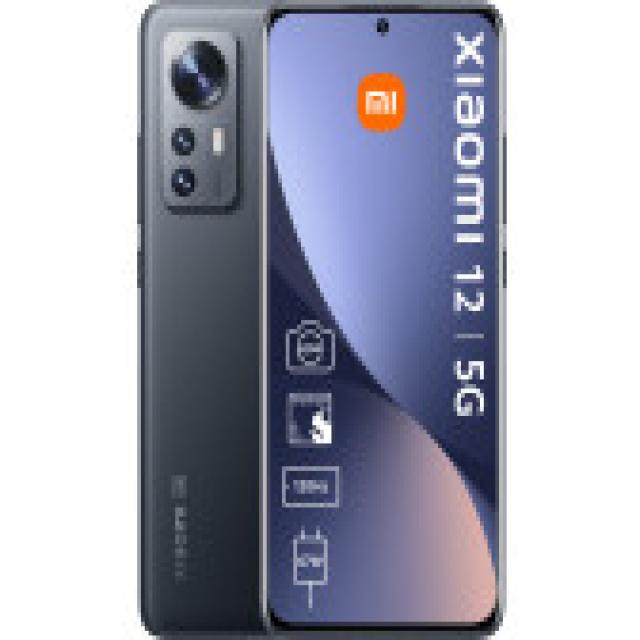mobile_phone: (252, 0, 513, 635), (127, 0, 268, 635)
